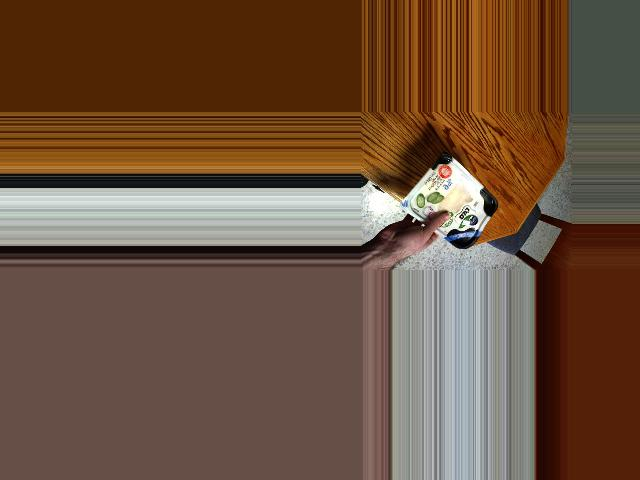cheese: (417, 163, 499, 241)
